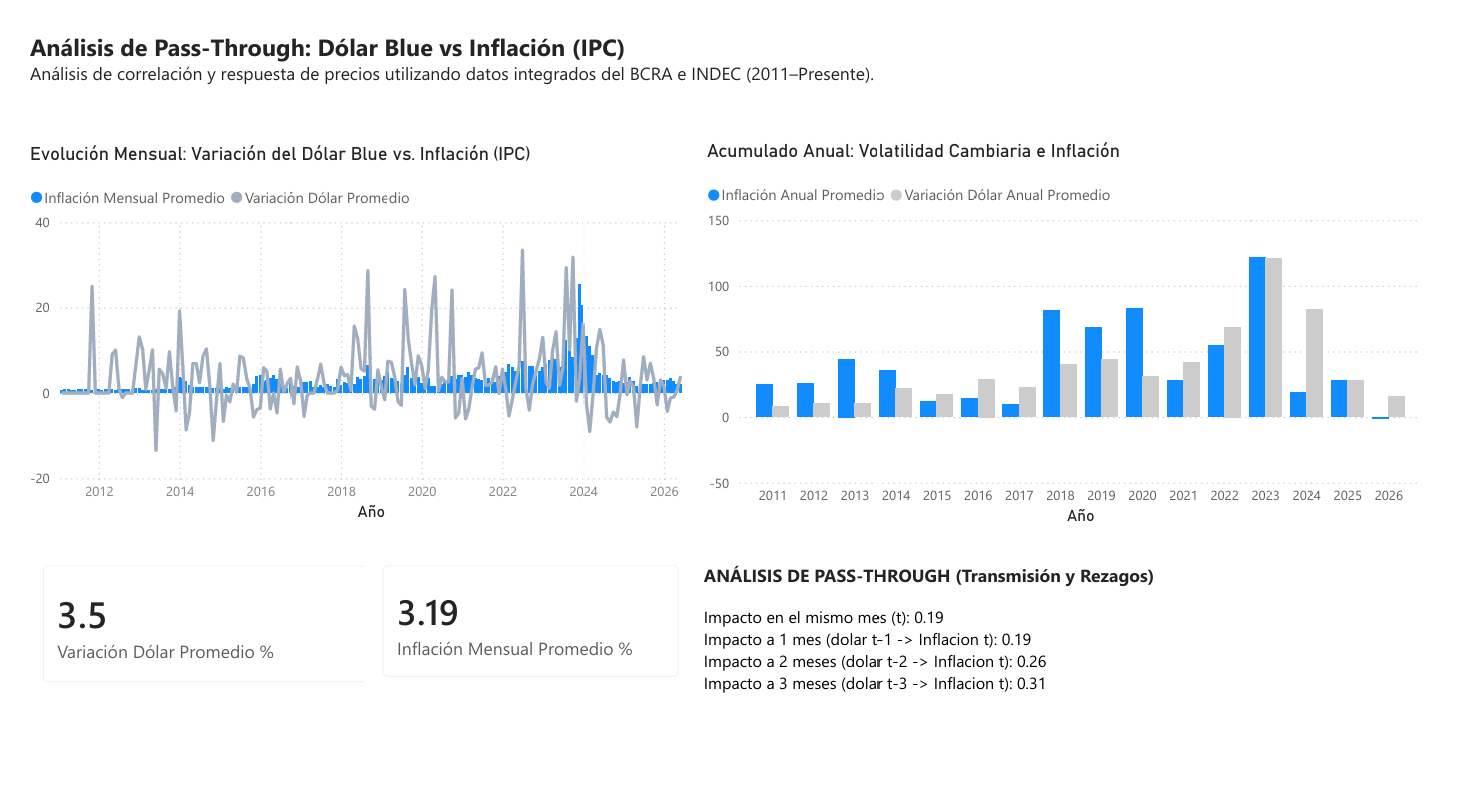

This screenshot's page, from the dashboard's own definition file:
{"tool":"powerbi","page":{"name":"Page 1","canvas":[1280,720],"ordinal":0},"visuals":[{"type":"cardVisual","fields":{"Data":["Avg(passthrough_dolar_ipc.dolar_variacion_pct)"]},"box":[0,473.8,328.8,140],"z":0},{"type":"lineStackedColumnComboChart","title":"Evolución Mensual: Variación del Dólar Blue vs. Inflación (IPC)","fields":{"Y":["Sum(passthrough_dolar_ipc.d)"],"Y2":["Sum(passthrough_dolar_ipc.dolar_variacion_pct)"],"Category":["passthrough_dolar_ipc.anio_mes"]},"box":[0,106.2,616.2,348.8],"z":1000},{"type":"cardVisual","fields":{"Data":["Avg(passthrough_dolar_ipc.inflacion_mensual)"]},"box":[308.8,473.8,303.3,135.6],"z":2000},{"type":"textbox","box":[0,0,856.7,88.9],"z":3000},{"type":"clusteredColumnChart","title":"Acumulado Anual: Volatilidad Cambiaria e Inflación","fields":{"Category":["passthrough_dolar_ipc.anio_mes.Variation.Date Hierarchy.Year"],"Y":["Sum(passthrough_dolar_ipc.dolar_variacion_pct)","Sum(passthrough_dolar_ipc.Inflacion mensual)"]},"box":[616.2,103.8,660,355],"z":4000},{"type":"textbox","box":[612.5,483.8,660,163.8],"z":5000}]}

Visuals, with their boxes in screenshot pixels (x1, y1, x2, y2), scaled from the page's 1280x720 canvas onto the 1457x798 screenshot:
cardVisual - Avg(passthrough_dolar_ipc.dolar_variacion_pct): region(0, 525, 374, 680)
"Evolución Mensual: Variación del Dólar Blue vs. Inflación (IPC)" lineStackedColumnComboChart: region(0, 118, 701, 504)
cardVisual - Avg(passthrough_dolar_ipc.inflacion_mensual): region(352, 525, 697, 675)
textbox: region(0, 0, 975, 99)
"Acumulado Anual: Volatilidad Cambiaria e Inflación" clusteredColumnChart: region(701, 115, 1453, 509)
textbox: region(697, 536, 1448, 718)
